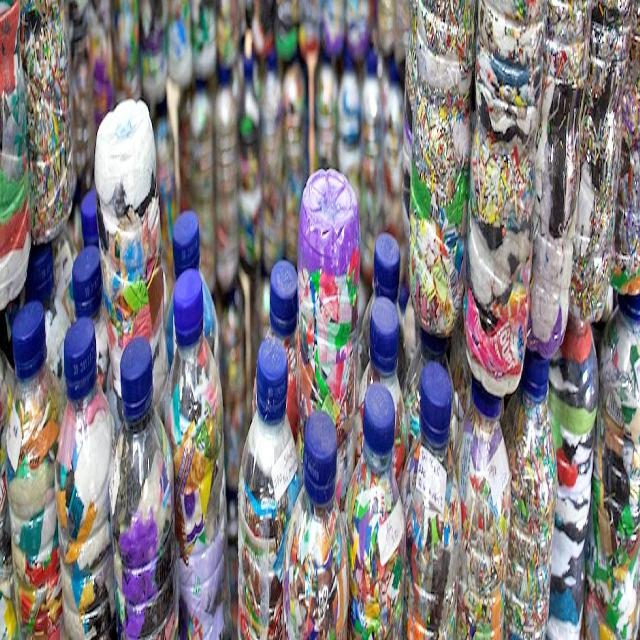plastic_bottle: (166, 298, 238, 640), (404, 1, 475, 325), (479, 21, 534, 391), (103, 130, 169, 425), (236, 361, 299, 640), (11, 299, 59, 634), (64, 336, 116, 625), (578, 1, 628, 298), (121, 357, 175, 625), (347, 402, 402, 631), (402, 379, 453, 625), (20, 13, 78, 228), (464, 403, 516, 640), (410, 383, 458, 588), (296, 423, 340, 640), (560, 330, 588, 628), (512, 404, 549, 626)
